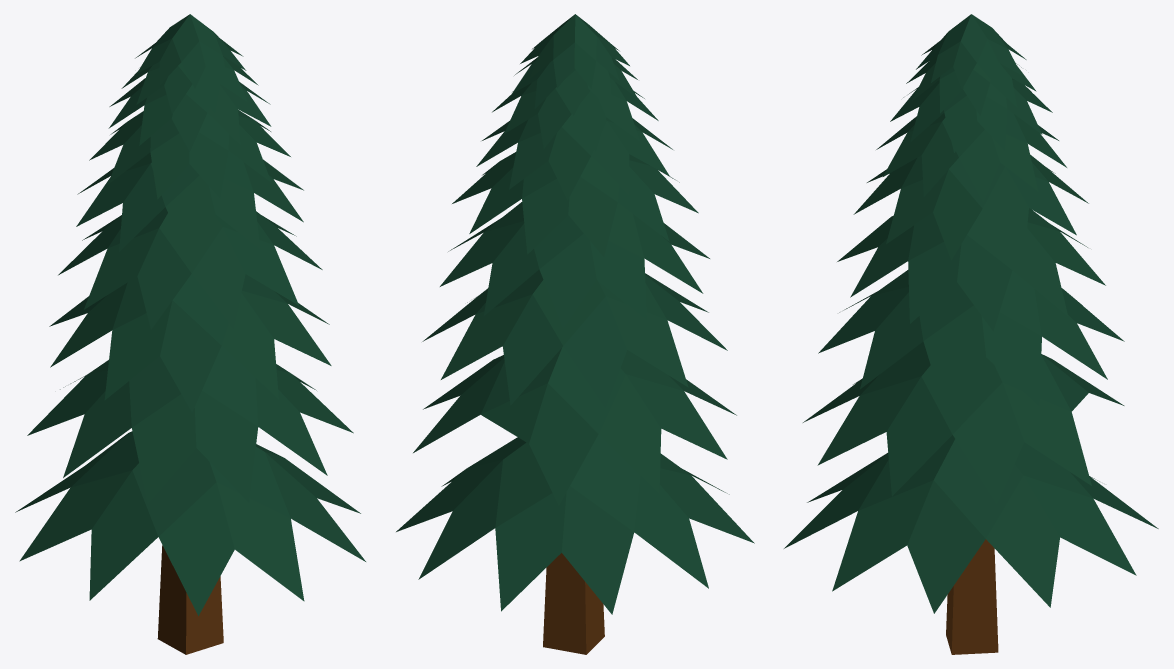
The model's file is coniferTree_scaled.glb.
3 renders of one model, left to right at view 1: azimuth 30°, elevation 25°; view 2: azimuth 150°, elevation 25°; view 3: azimuth 270°, elevation 25°, orthographic.
Visible parts, largest first — view 1: conifertree; view 2: conifertree; view 3: conifertree.
Boxes of the visible parts, x1,y1,x2,y2 form: conifertree: (15,14,365,654); conifertree: (396,14,754,654); conifertree: (784,14,1158,654).
Bounding box in the file's own units: 28.42 × 55.8 × 30.26.
